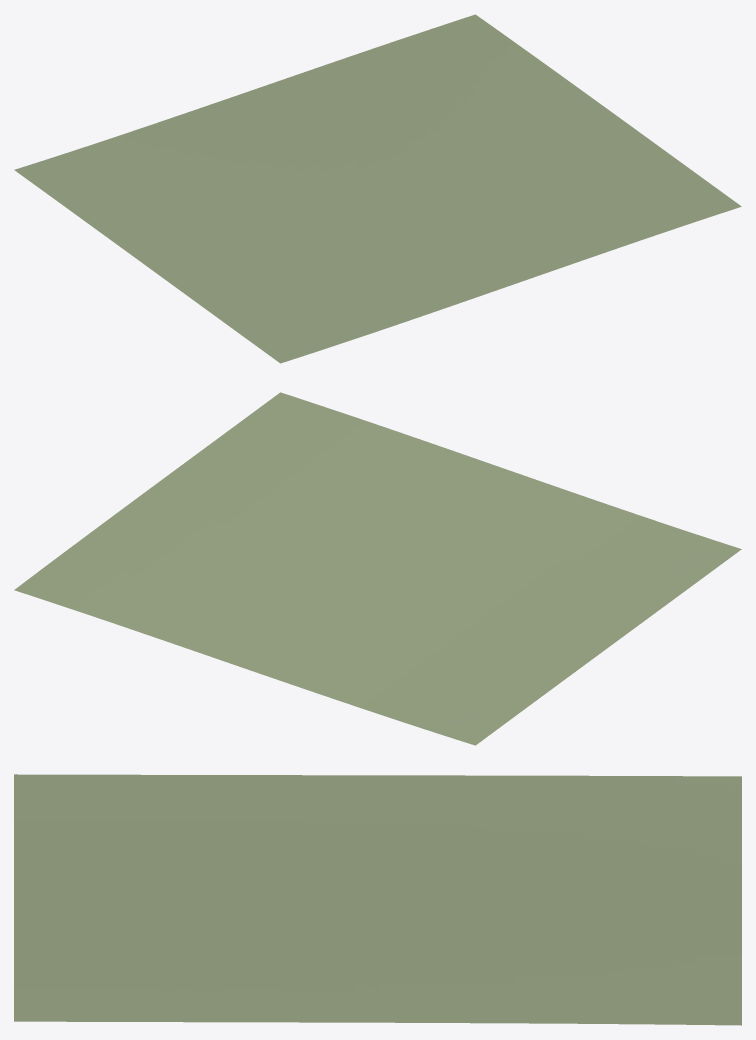
File: valley-5-10.glb
3 renders of one model, top to bottom at view 1: azimuth 30°, elevation 25°; view 2: azimuth 150°, elevation 25°; view 3: azimuth 270°, elevation 25°, orthographic. The views are drawn at different scales.
Visible parts, largest first — view 1: valley-5-10; view 2: valley-5-10; view 3: valley-5-10.
Boxes of the visible parts, left/top/right/bottom form: valley-5-10: left=14, top=14, right=741, bottom=363; valley-5-10: left=14, top=392, right=741, bottom=745; valley-5-10: left=14, top=774, right=741, bottom=1025.
Size of the model in its own units: 256 by 24.22 by 256.
